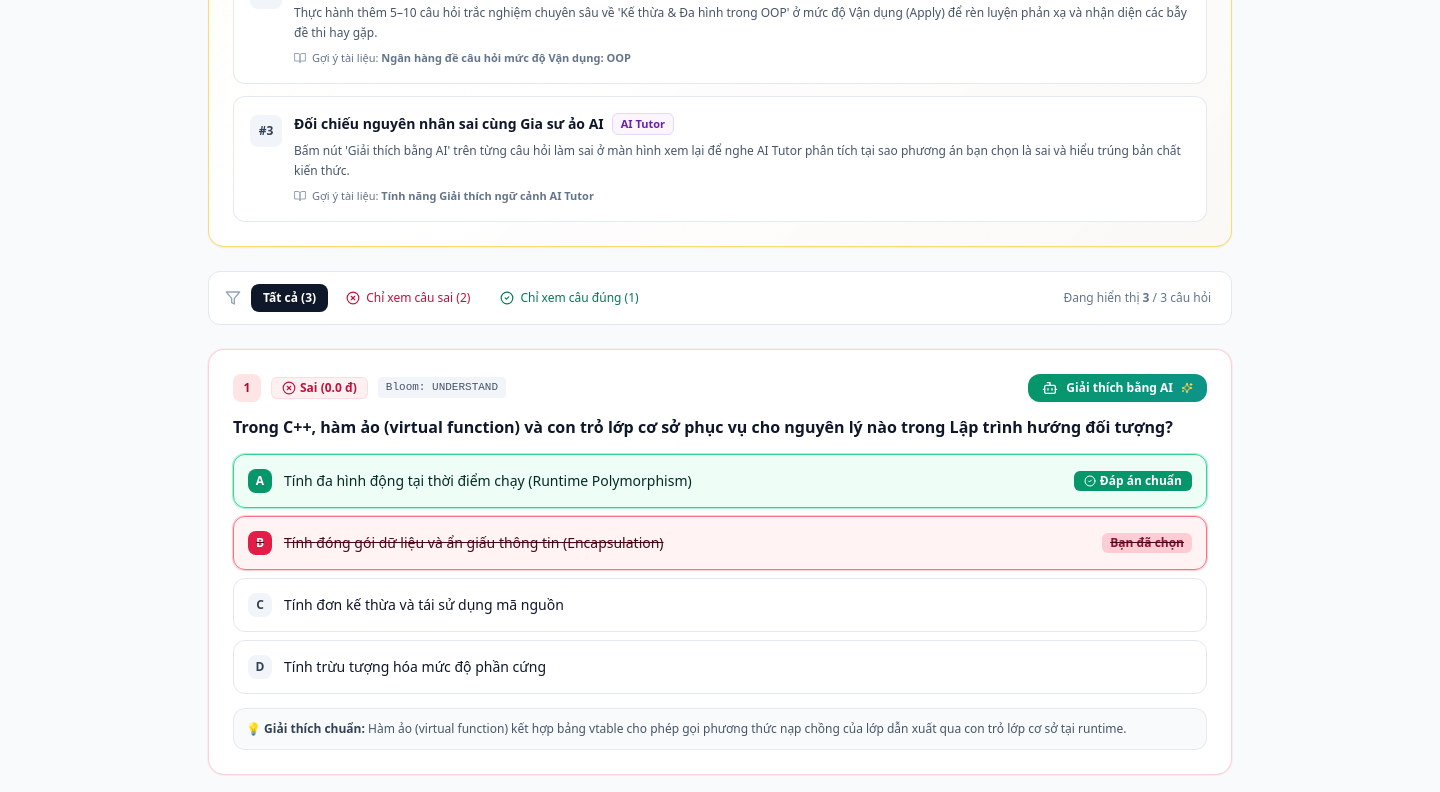
Scenario: ReviewExamView AI Tutor integration (Issue #51) › omits non-UUID sample ids when requesting AI explanation on /review
(page scrolled)
Click the button "Giải thích bằng AI": click(1118, 388) [1028,374,1207,402]
(page scrolled)
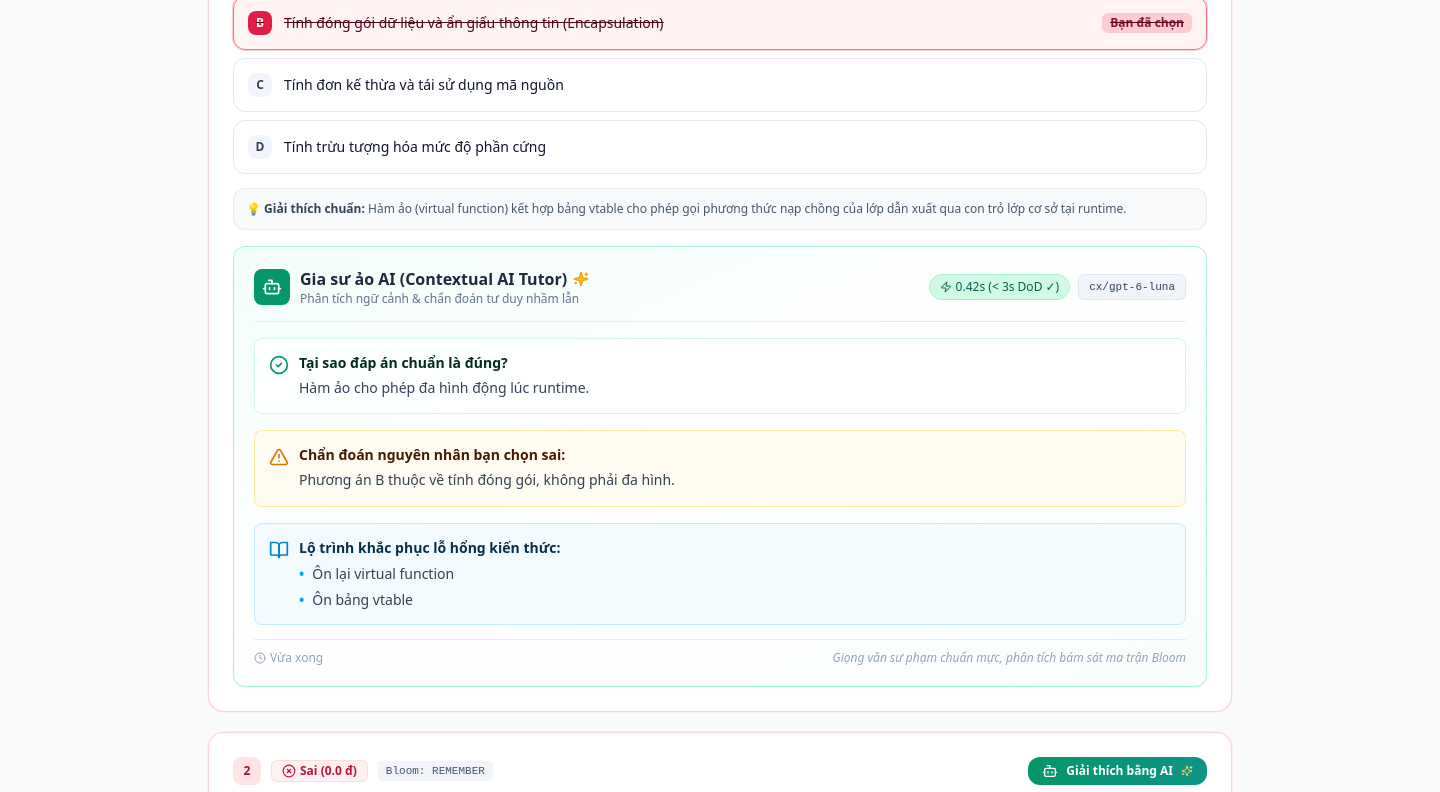
Expected: the text "Hàm ảo cho phép đa hình động lúc runtime." is shown, [299,376,589,399]
